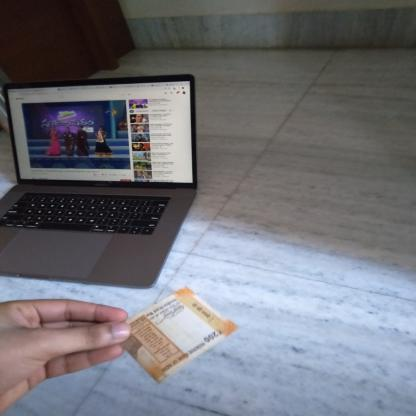New200Back: (116, 290, 235, 380)
